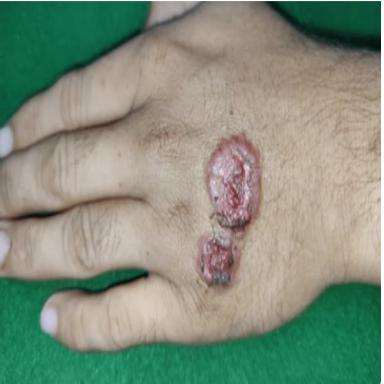Leishmanios: (197, 133, 261, 289)
